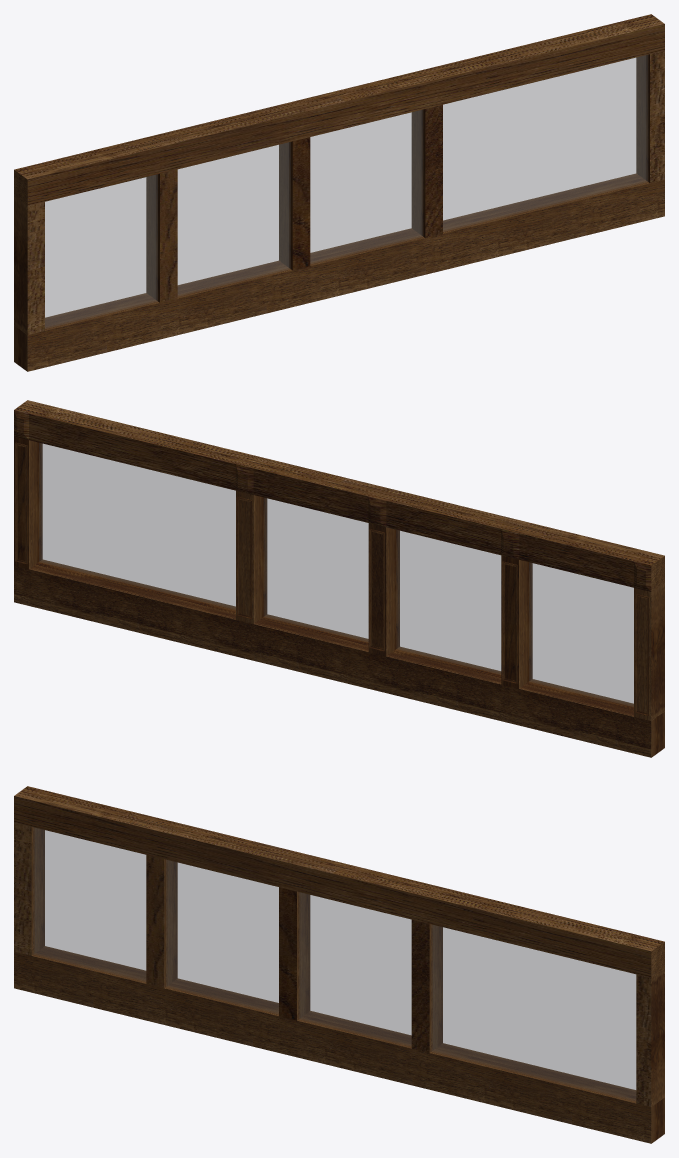
The model's file is windows wall.FBX.
3 renders of one model, top to bottom at view 1: azimuth 30°, elevation 25°; view 2: azimuth 150°, elevation 25°; view 3: azimuth 330°, elevation 25°, orthographic.
Visible parts, largest first — view 1: windows wall; view 2: windows wall; view 3: windows wall.
Part boxes in pixels (x1,y1,x2,y2): windows wall: (14, 14, 664, 371); windows wall: (14, 400, 664, 757); windows wall: (14, 786, 664, 1143).
Size of the model in its own units: 535 by 154 by 21.42.
2 materials, 1 textured.
